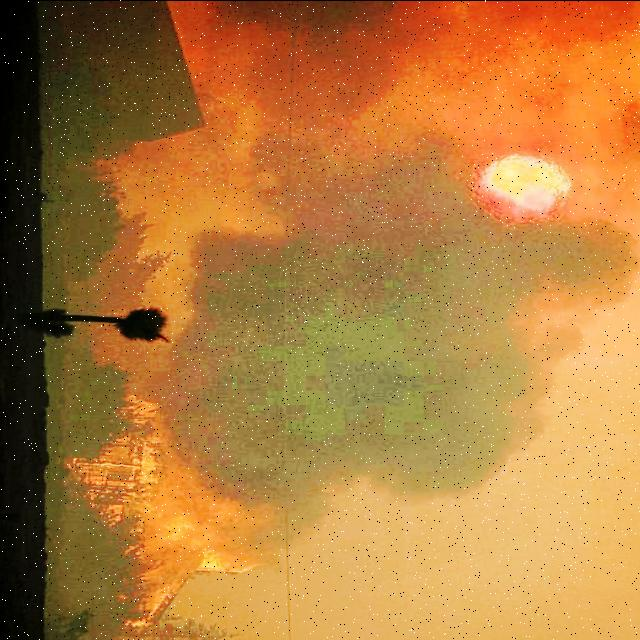api: (132, 494, 270, 622), (87, 413, 169, 489), (482, 151, 577, 205)
asap: (176, 240, 628, 518), (200, 4, 482, 237)
